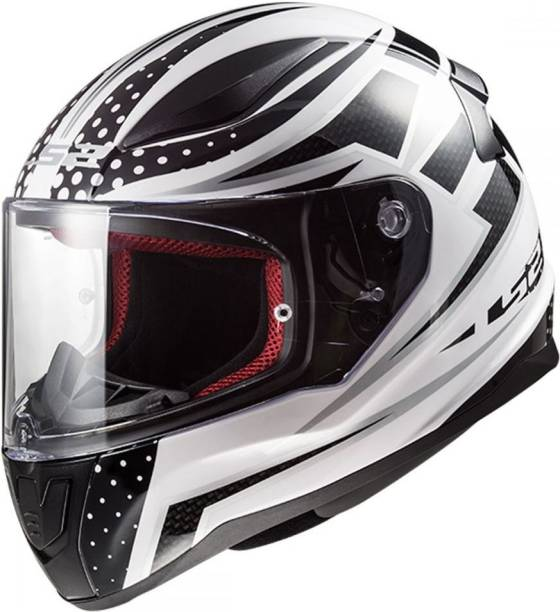with_helmet: (2, 2, 560, 604)
